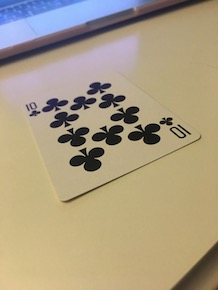TenOfClubs: (20, 62, 203, 204)
